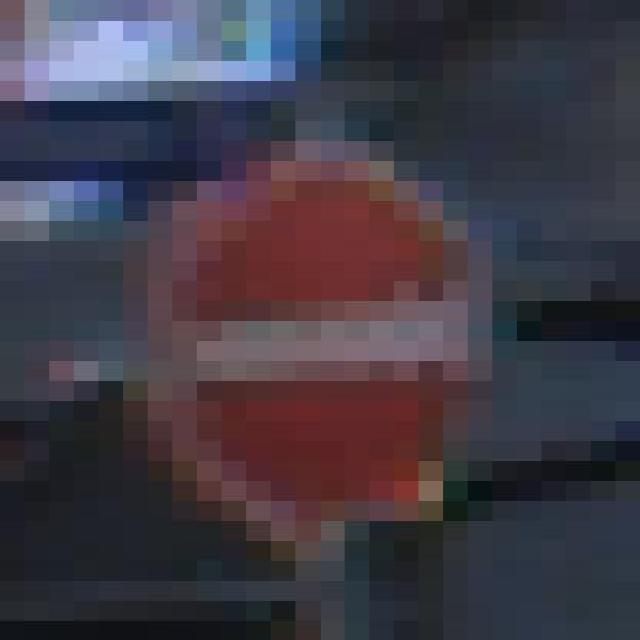No Entry: (76, 154, 569, 554)
